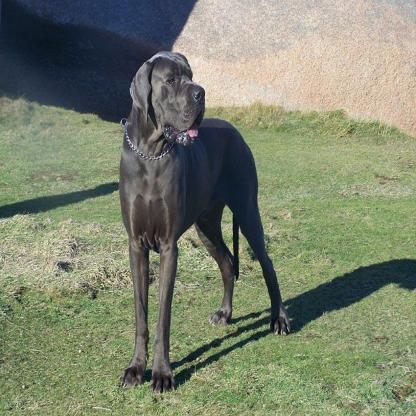Great_Dane: (118, 52, 289, 391)
